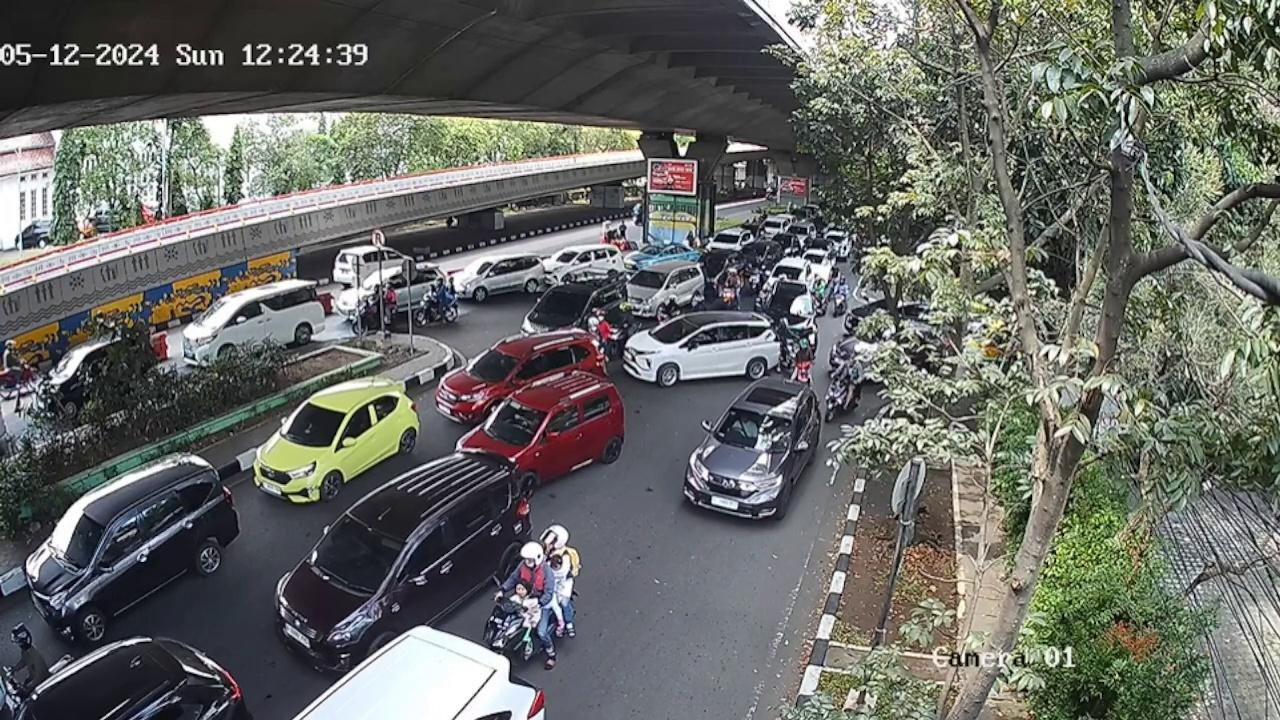pakai: (731, 415, 759, 442)
windshield: (312, 513, 404, 597), (278, 400, 346, 453), (717, 408, 794, 454), (482, 400, 548, 444)
